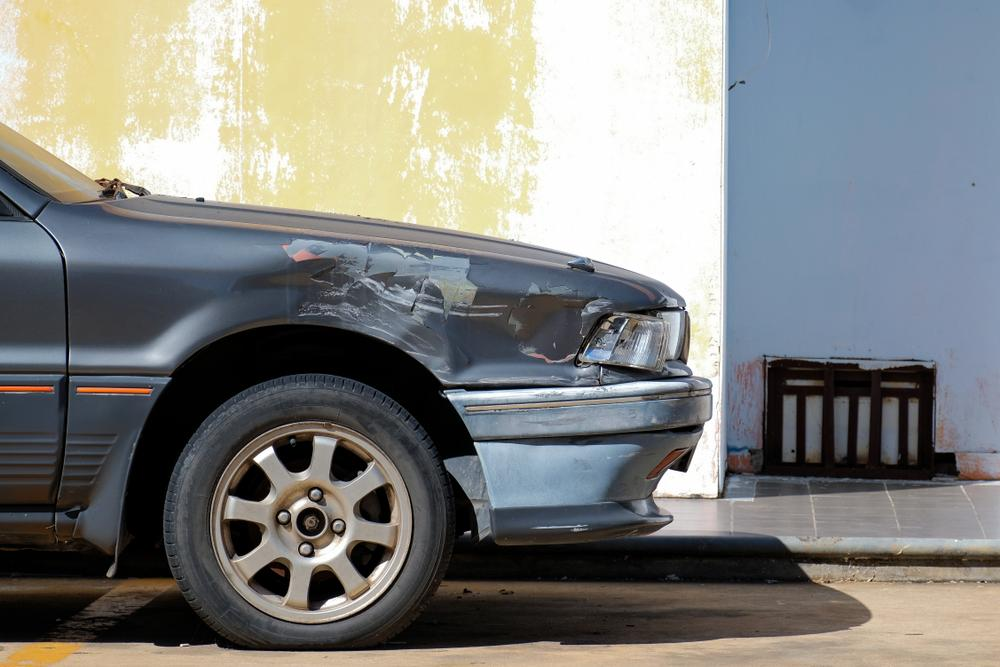dent: (237, 255, 608, 387)
